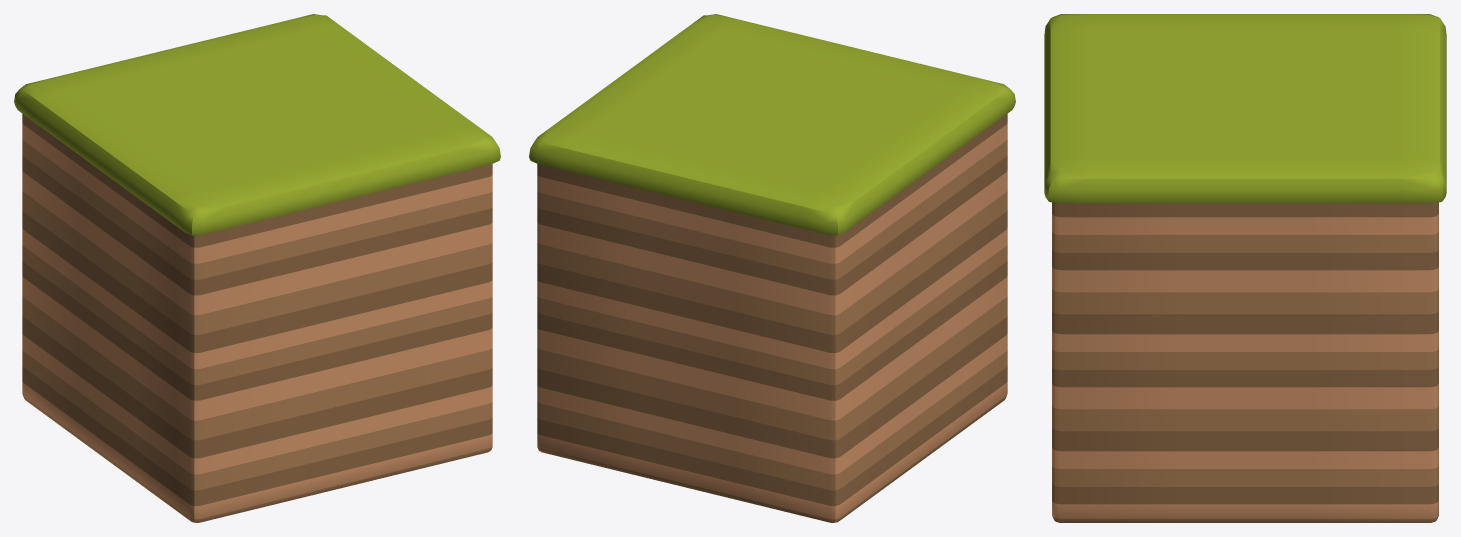
File: Cube_Grass_Side_Tall.004.fbx
The picture shows the model from 3 angles, left to right: view 1: azimuth 30°, elevation 25°; view 2: azimuth 150°, elevation 25°; view 3: azimuth 270°, elevation 25°; orthographic projection. The views are drawn at different scales.
Parts seen in each view (by area): view 1: Cube_Grass_Side_Tall.004; view 2: Cube_Grass_Side_Tall.004; view 3: Cube_Grass_Side_Tall.004.
Boxes of the visible parts, <box> form: Cube_Grass_Side_Tall.004: <box>14,14,500,522</box>; Cube_Grass_Side_Tall.004: <box>529,14,1015,522</box>; Cube_Grass_Side_Tall.004: <box>1044,14,1446,522</box>.
Bounding box in the file's own units: 623 × 600 × 623.
